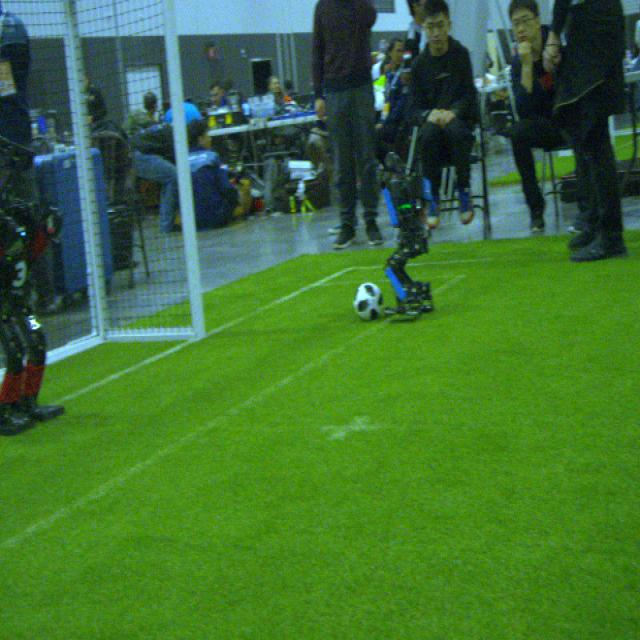ball: (353, 282, 383, 322)
goalpost: (161, 0, 205, 339)
